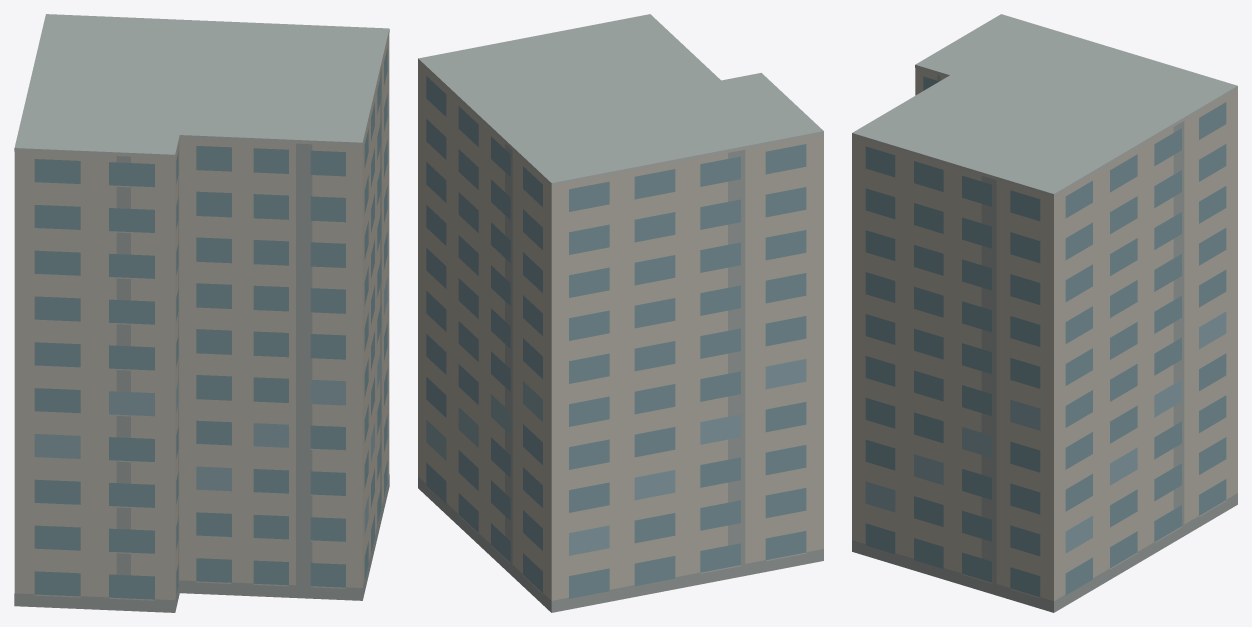
File: residential-cfcf0dc6-cc4f-4f11-a611-9cec46a86f44.glb
The picture shows the model from 3 angles, left to right: view 1: azimuth 30°, elevation 25°; view 2: azimuth 150°, elevation 25°; view 3: azimuth 270°, elevation 25°; orthographic projection. The views are drawn at different scales.
Parts seen in each view (by area): view 1: residential-cfcf0dc6-cc4f-4f11-a611-9cec46a86f44.tmp; view 2: residential-cfcf0dc6-cc4f-4f11-a611-9cec46a86f44.tmp; view 3: residential-cfcf0dc6-cc4f-4f11-a611-9cec46a86f44.tmp.
Part boxes in pixels (<box>): residential-cfcf0dc6-cc4f-4f11-a611-9cec46a86f44.tmp: <box>14,14,389,612</box>; residential-cfcf0dc6-cc4f-4f11-a611-9cec46a86f44.tmp: <box>418,14,823,612</box>; residential-cfcf0dc6-cc4f-4f11-a611-9cec46a86f44.tmp: <box>852,14,1237,612</box>.
Size of the model in its own units: 27.68 by 30 by 25.06.
